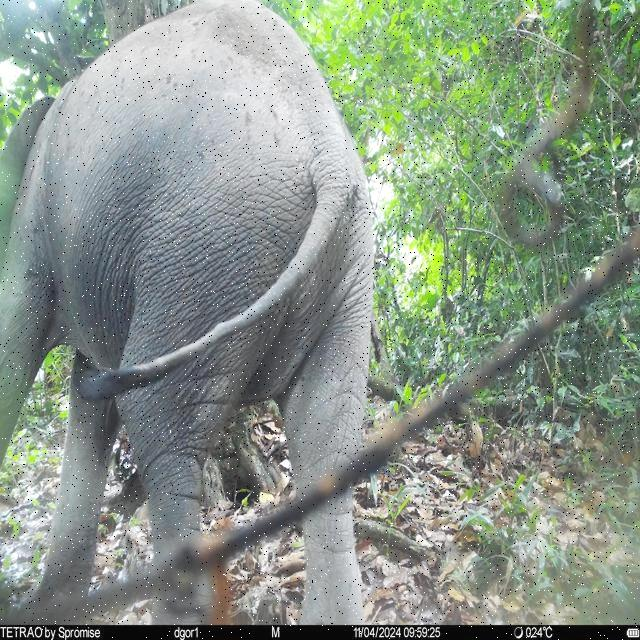ear: (0, 97, 56, 287)
elephant: (1, 0, 374, 626)
